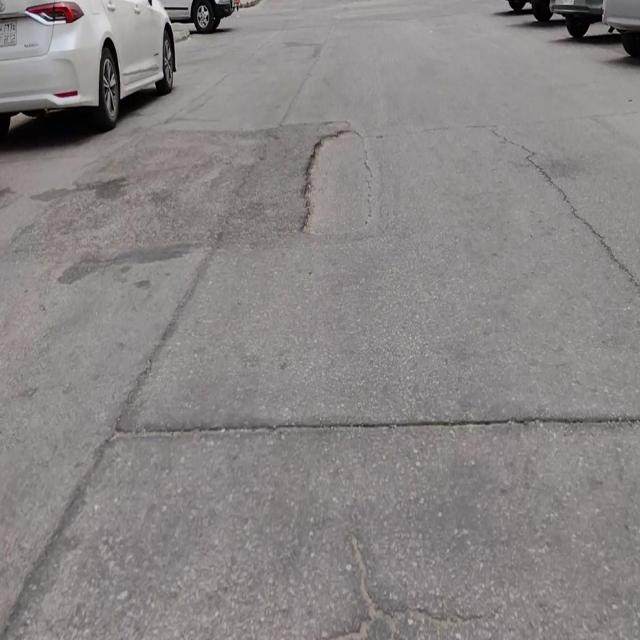Potholes: (297, 127, 373, 239)
